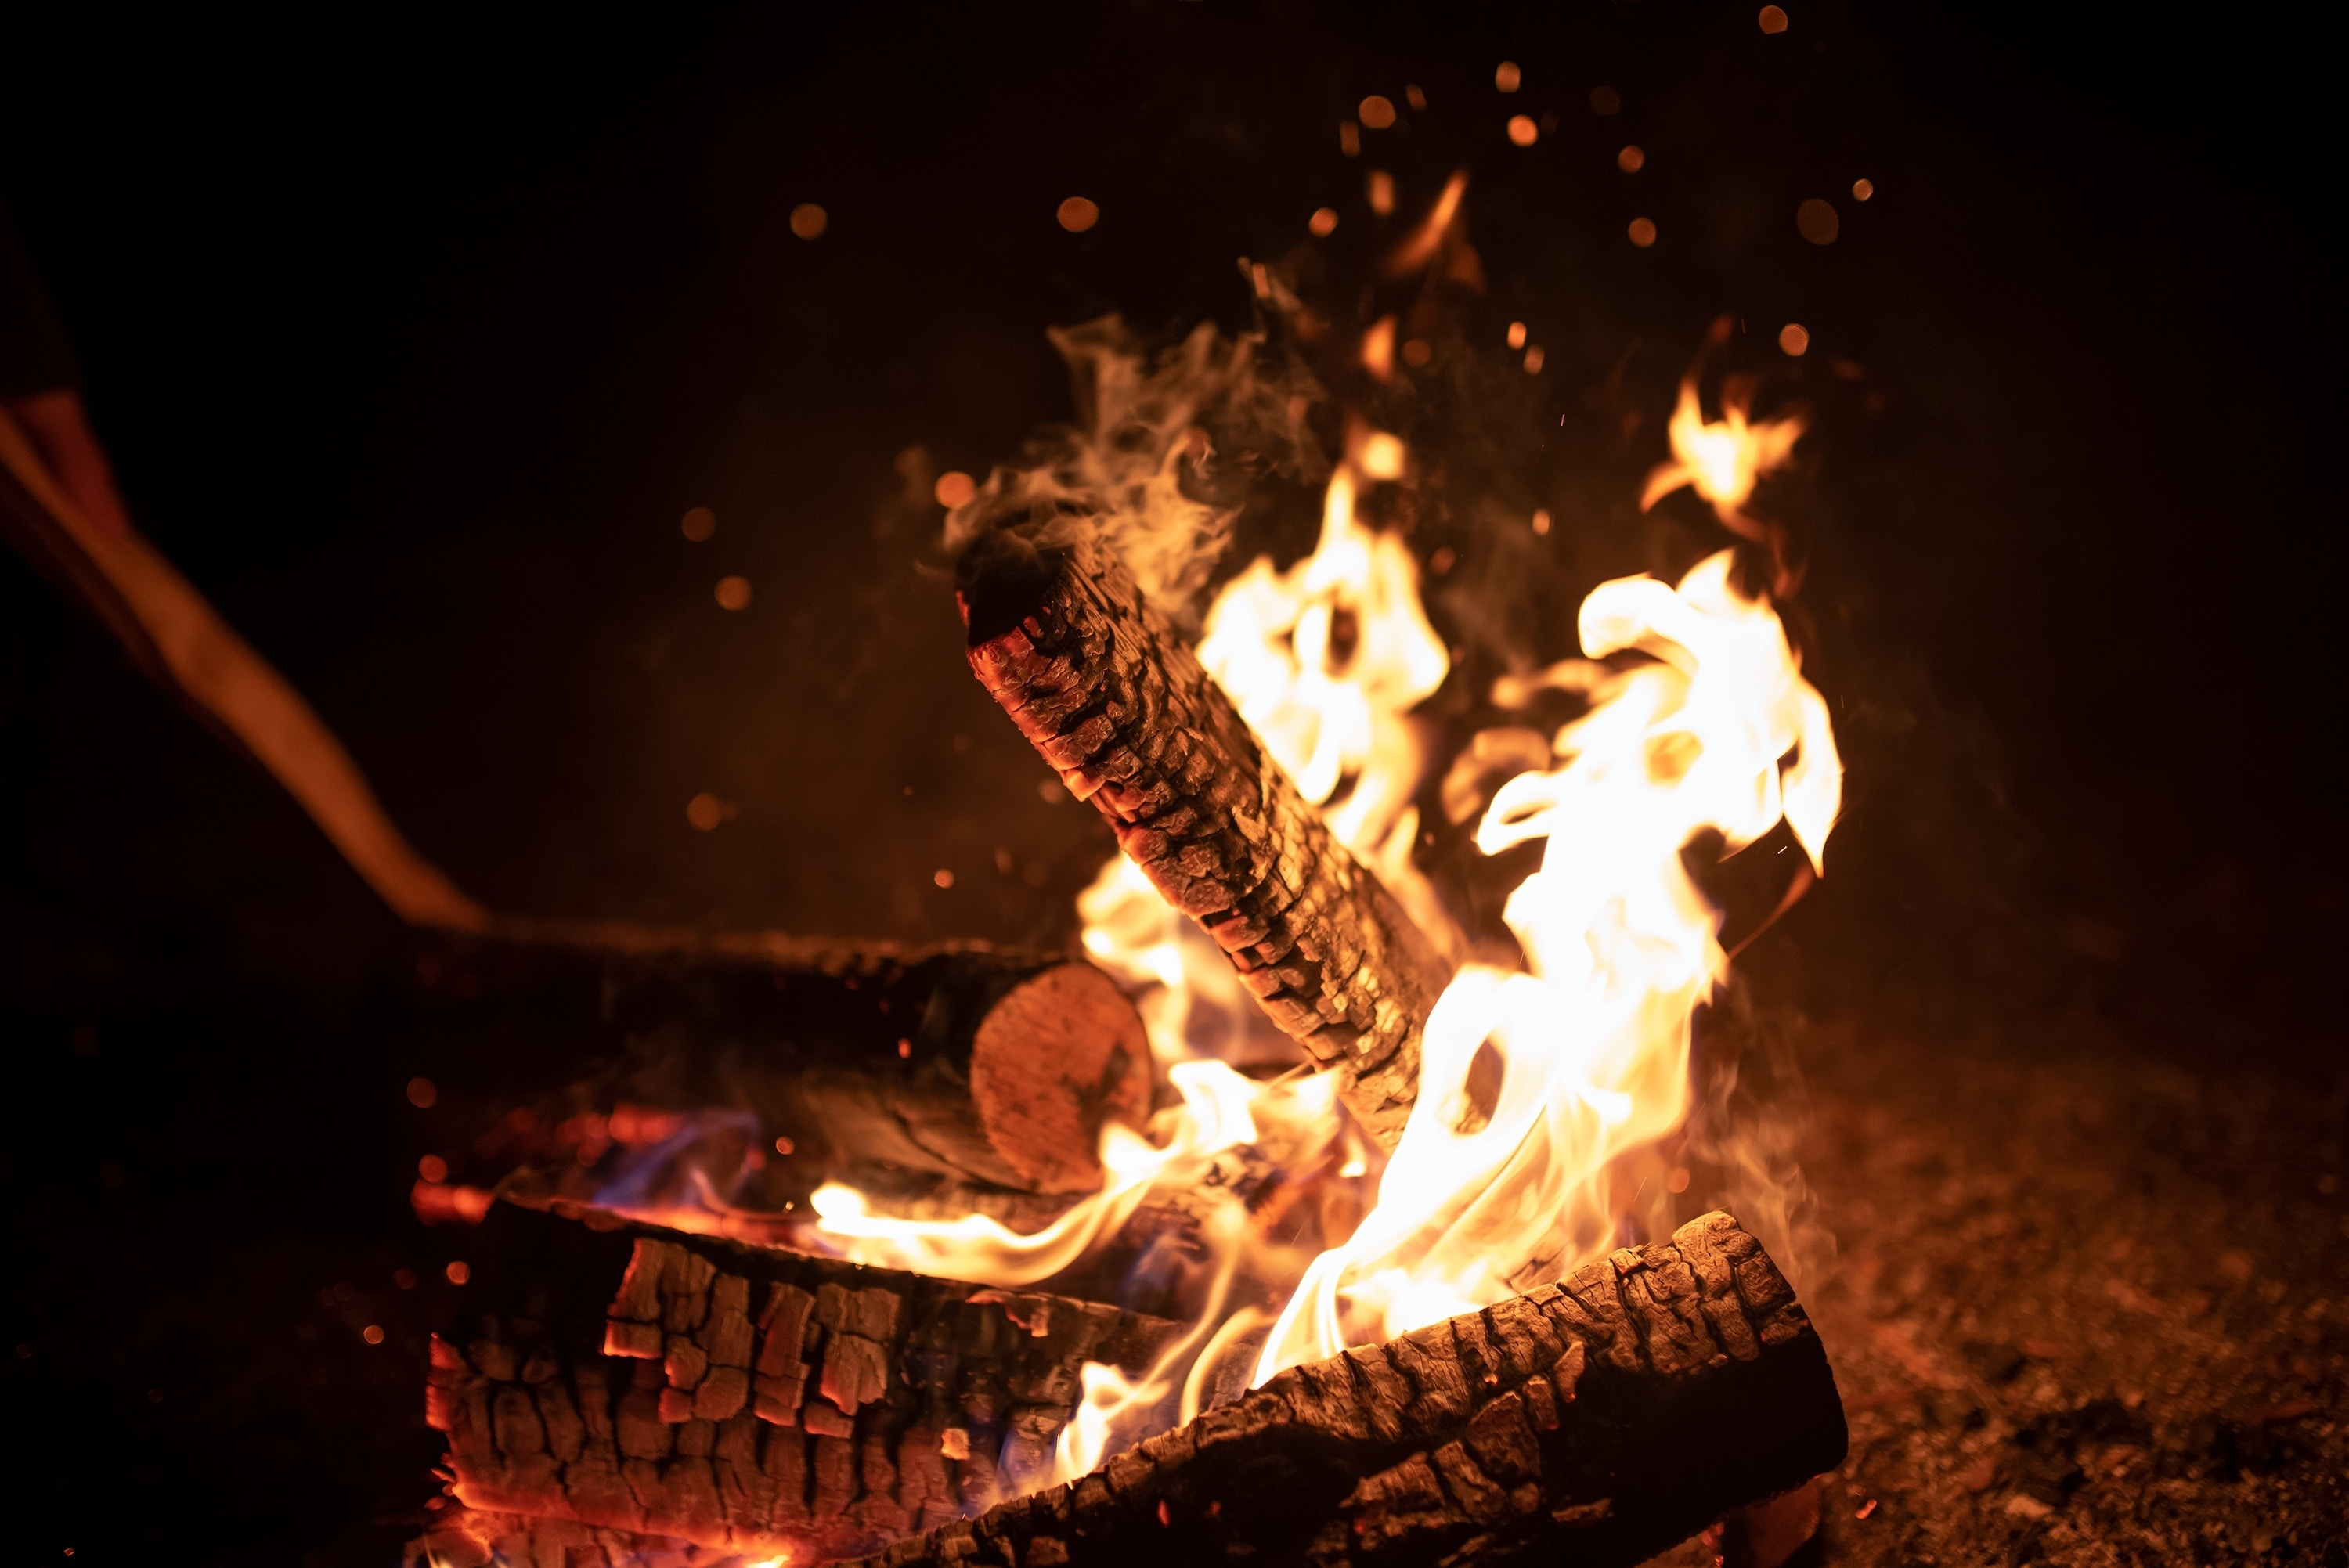fire: (1015, 376, 1852, 1486)
